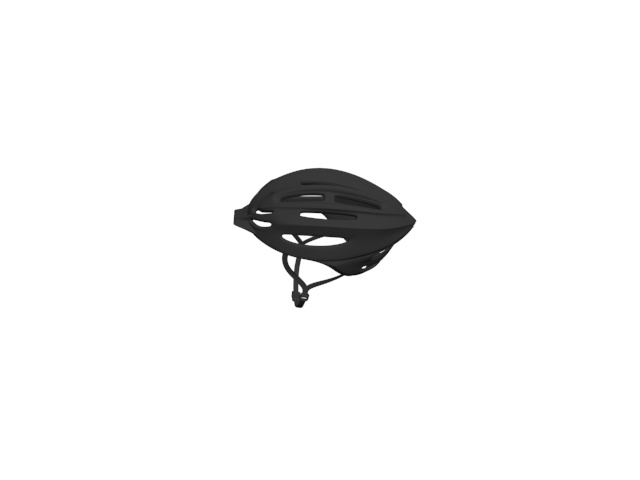bike_helmet: (233, 161, 424, 312)
